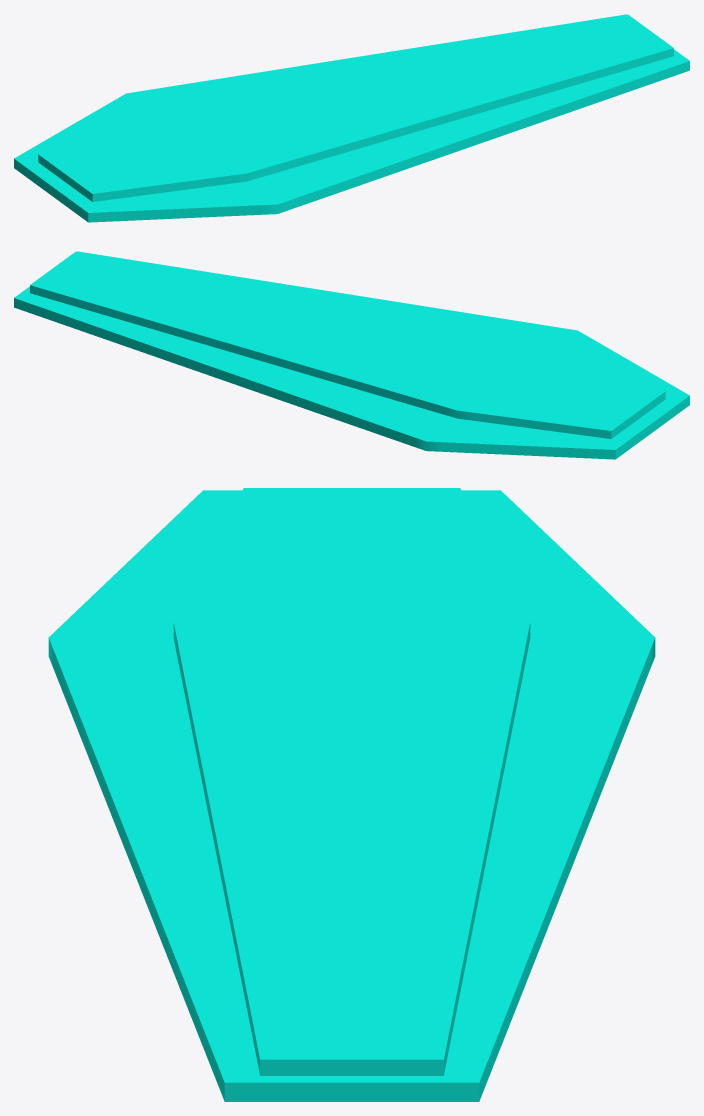
File: Tapa.fbx
The picture shows the model from 3 angles, top to bottom: view 1: azimuth 30°, elevation 25°; view 2: azimuth 150°, elevation 25°; view 3: azimuth 270°, elevation 25°; orthographic projection. The views are drawn at different scales.
Visible parts, largest first — view 1: Tapa; view 2: Tapa; view 3: Tapa.
Boxes of the visible parts, <box> form: Tapa: <box>14,14,689,222</box>; Tapa: <box>14,251,689,459</box>; Tapa: <box>48,488,655,1101</box>.
Size of the model in its own units: 9.11 by 0.2537 by 3.94.
